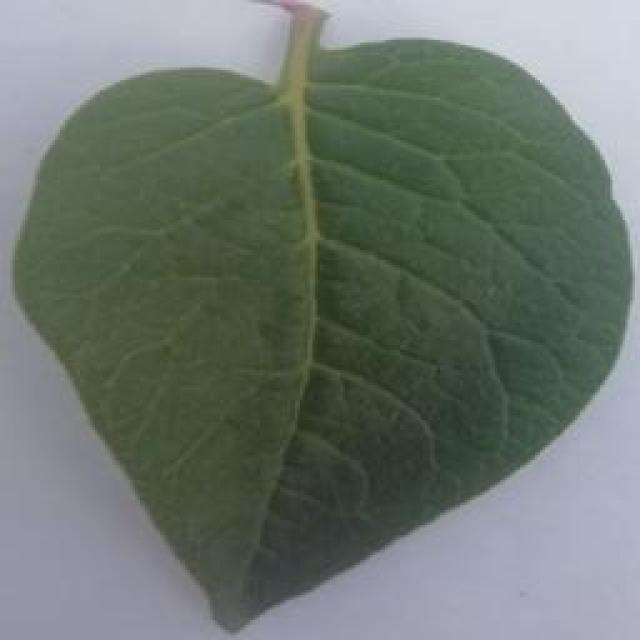Potato_Healthy: (13, 12, 622, 637)
